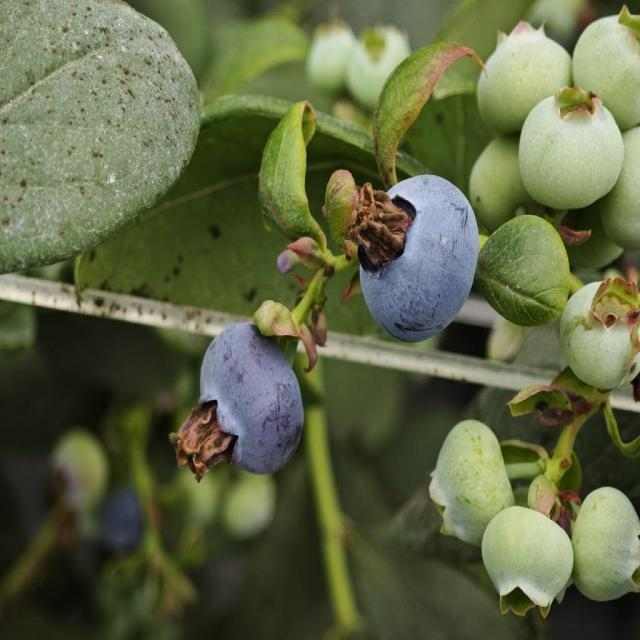RipeBlueBerry: (356, 172, 482, 342), (182, 322, 306, 478)
UnripeBlueBerry: (517, 84, 627, 214), (427, 418, 515, 546), (480, 504, 575, 622), (476, 23, 573, 133), (559, 277, 640, 391), (572, 483, 640, 605), (572, 6, 640, 125)
